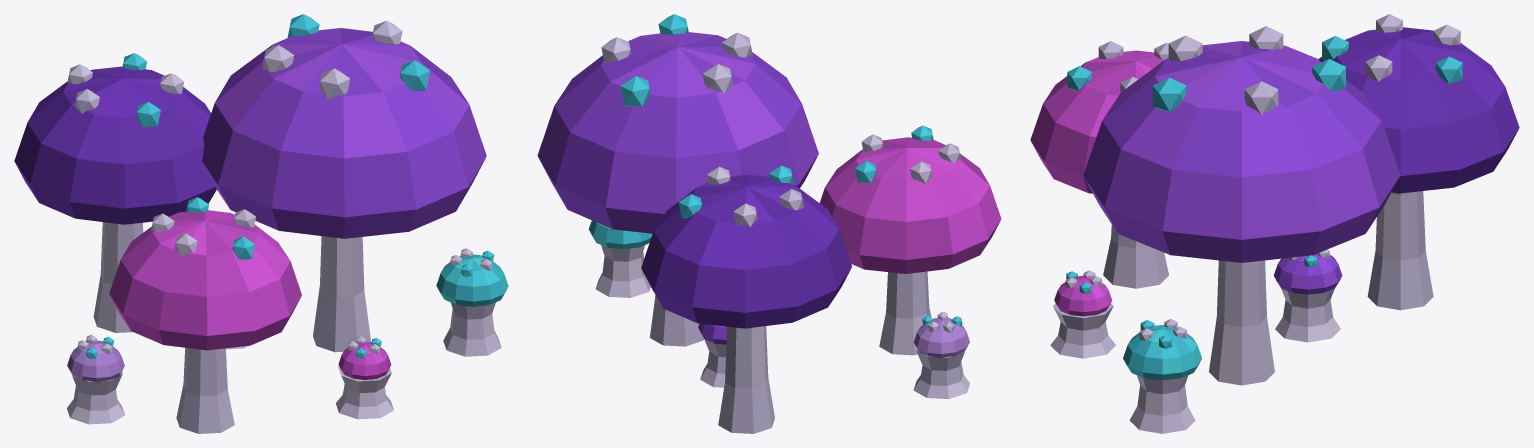
Rendered from Decor_VoidPortal_Shrooms.fbx.
3 renders of one model, left to right at view 1: azimuth 30°, elevation 25°; view 2: azimuth 150°, elevation 25°; view 3: azimuth 270°, elevation 25°, orthographic. The views are drawn at different scales.
Parts seen in each view (by area): view 1: Shrooms_Body; view 2: Shrooms_Body; view 3: Shrooms_Body.
Part boxes in pixels (x1,y1,x2,y2): Shrooms_Body: (14, 14, 508, 433); Shrooms_Body: (537, 14, 1001, 433); Shrooms_Body: (1030, 14, 1519, 433).
Size of the model in its own units: 19 by 13.3 by 18.5.
